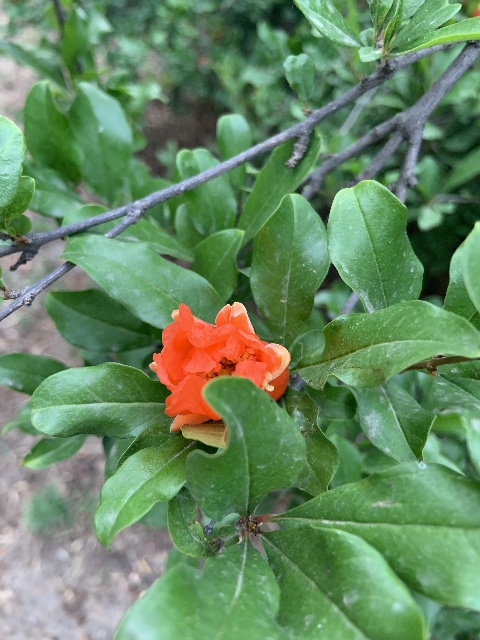flower: (150, 301, 289, 431)
